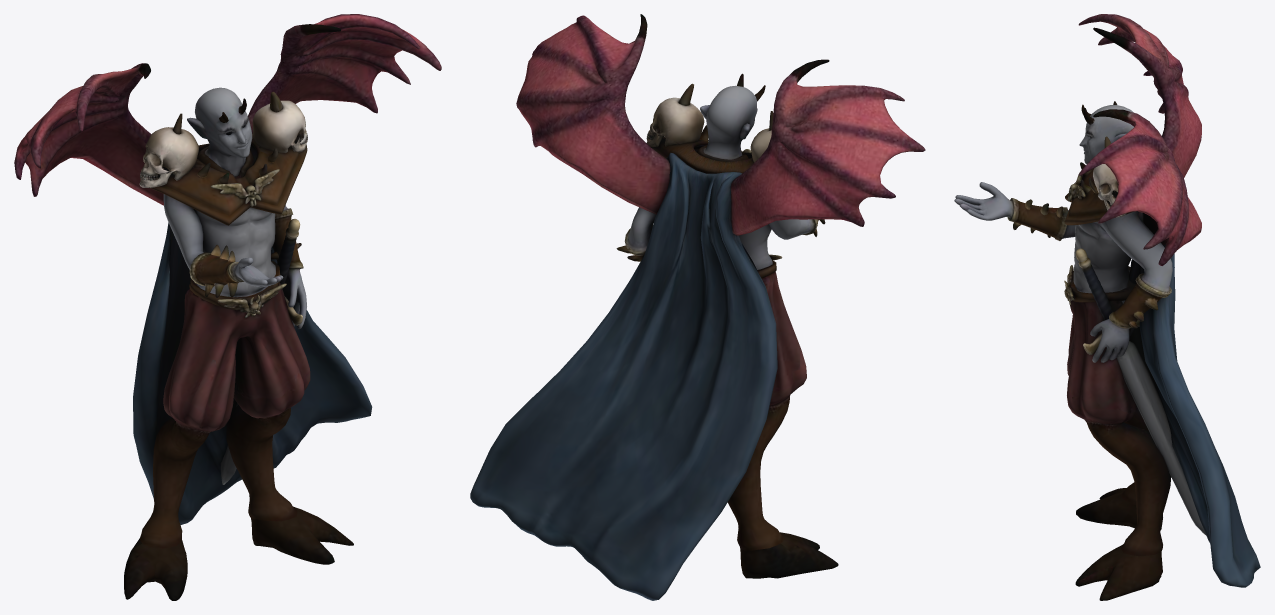
Rendered from MZ4250 - Titivilus.glb.
3 renders of one model, left to right at view 1: azimuth 30°, elevation 25°; view 2: azimuth 150°, elevation 25°; view 3: azimuth 270°, elevation 25°, orthographic. The views are drawn at different scales.
Visible parts, largest first — view 1: Body.004; view 2: Body.004; view 3: Body.004.
Part boxes in pixels (x1,y1,x2,y2): Body.004: [14, 14, 441, 600]; Body.004: [470, 14, 925, 600]; Body.004: [954, 14, 1260, 600].
Bounding box in the file's own units: 14.15 × 17.81 × 10.14.
Materials: 1 (1 with a texture image).
